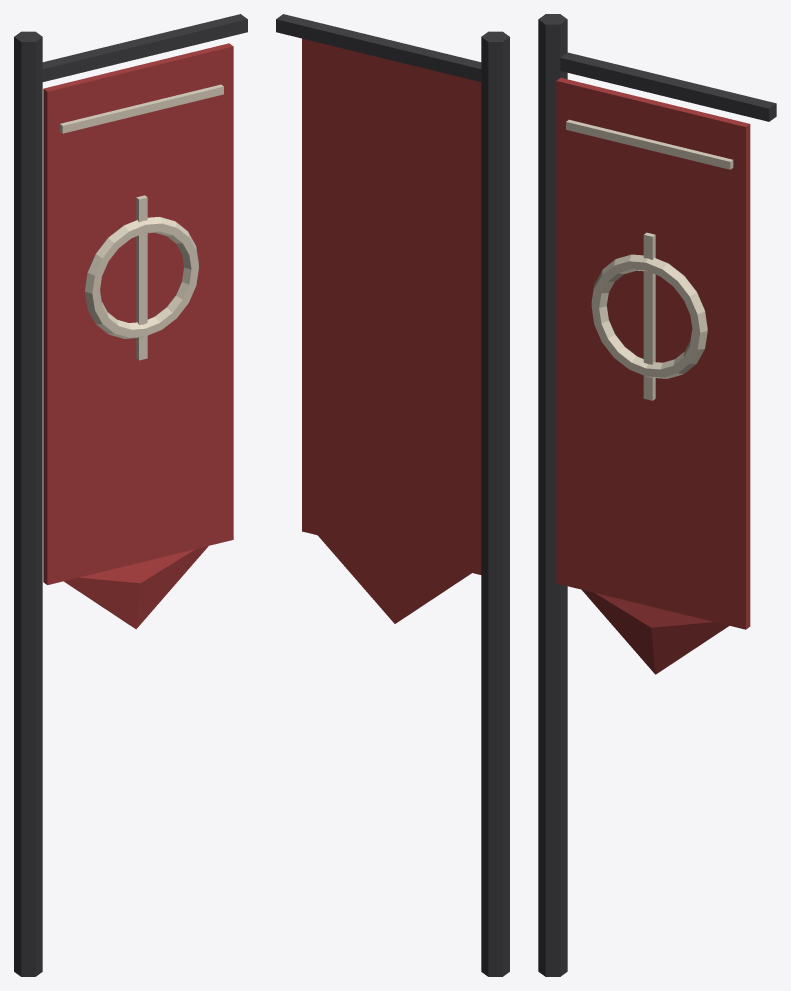
File: banner.glb
3 views of the same model, side by side, from view 1: azimuth 30°, elevation 25°; view 2: azimuth 150°, elevation 25°; view 3: azimuth 330°, elevation 25° (orthographic).
Parts seen in each view (by area): view 1: banner; view 2: banner; view 3: banner.
Part boxes in pixels (x1,y1,x2,y2): banner: (14,14,247,976); banner: (276,14,509,976); banner: (538,14,776,976).
Size of the model in its own units: 0.9133 by 3.6 by 0.141.
